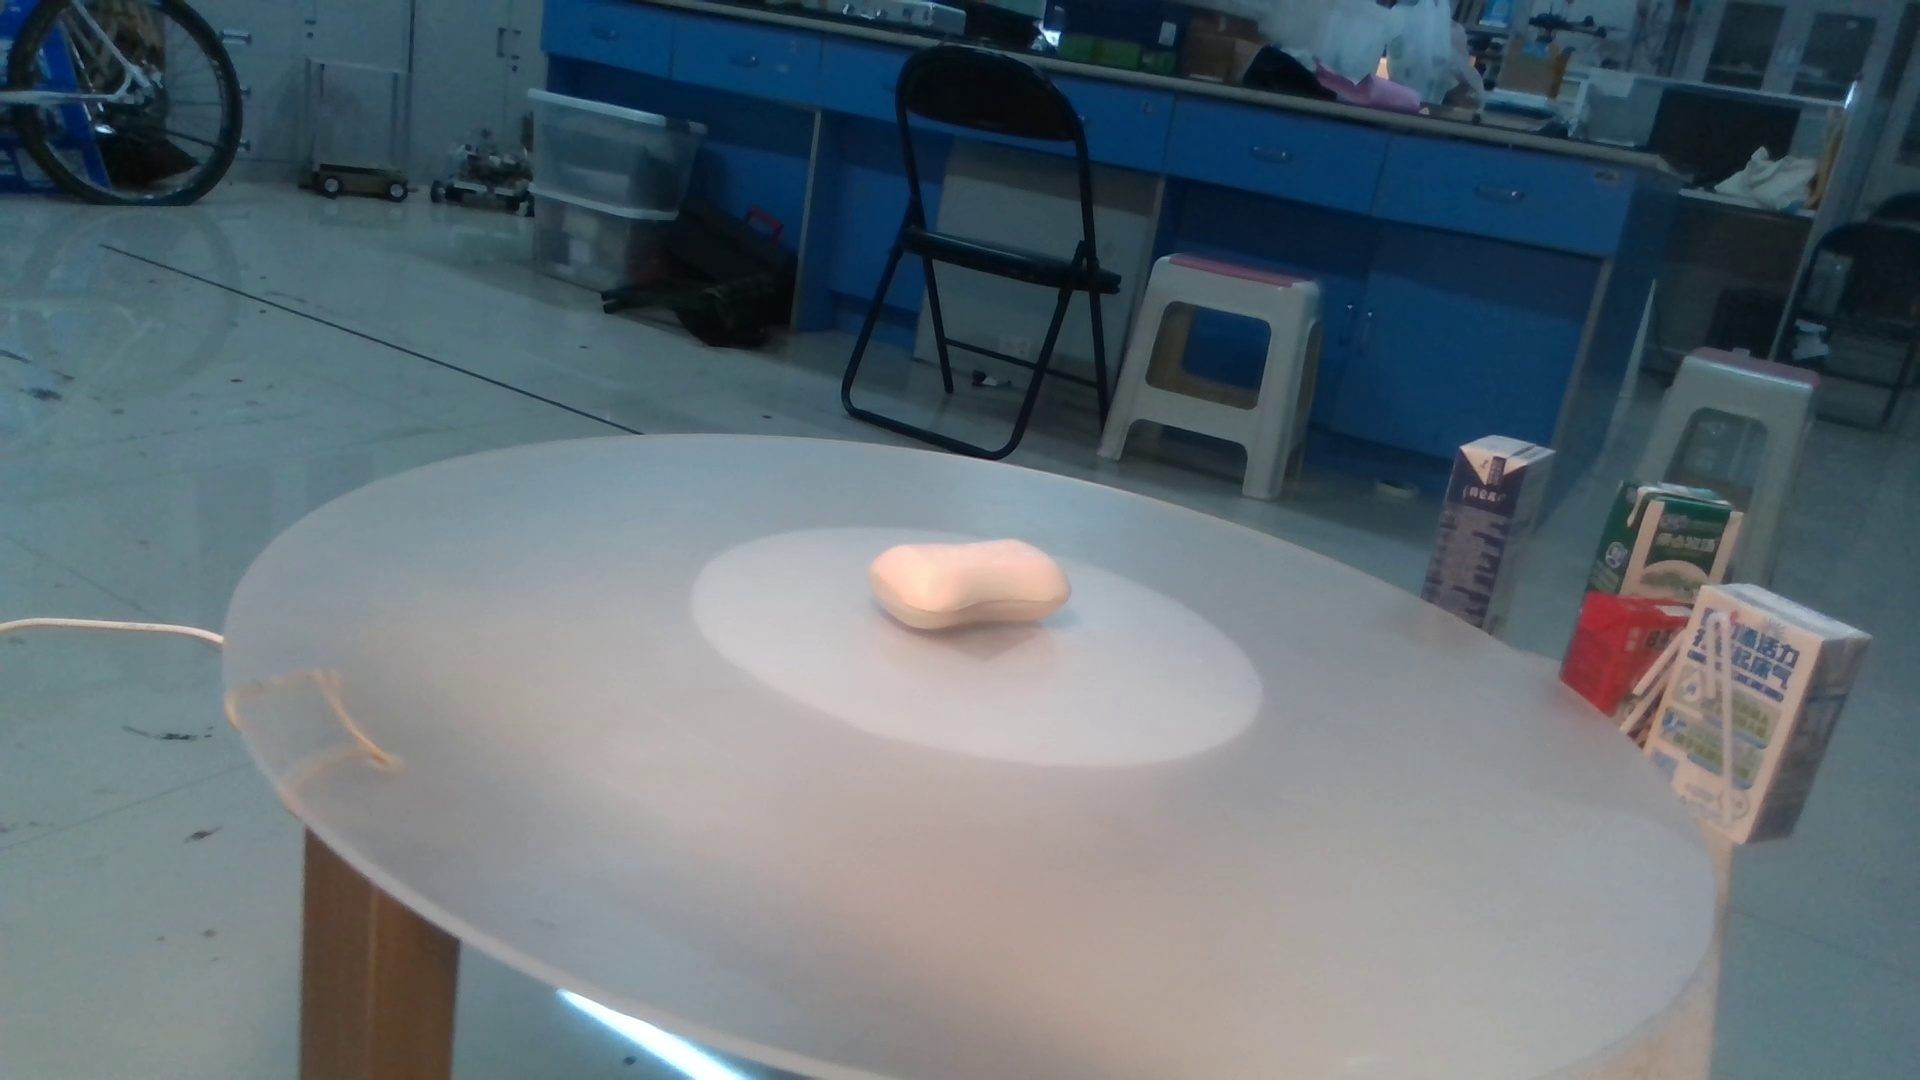CA003_1: (858, 504, 1106, 669)
